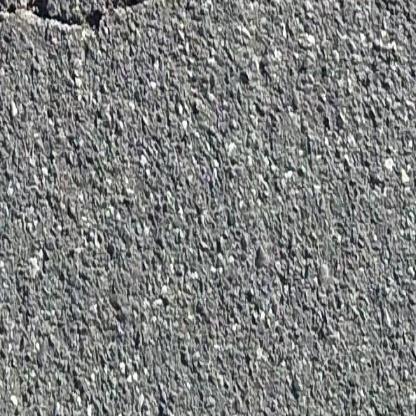Cracks: (0, 0, 187, 36), (373, 0, 416, 59)
